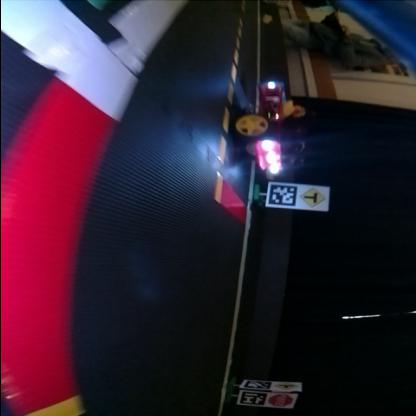Duckiebot: (236, 83, 304, 173)
Intersection sign: (300, 186, 328, 210), (276, 382, 301, 392)
QR code: (268, 184, 296, 209), (238, 392, 266, 408), (241, 380, 272, 390)
Stop sign: (268, 394, 296, 409)
